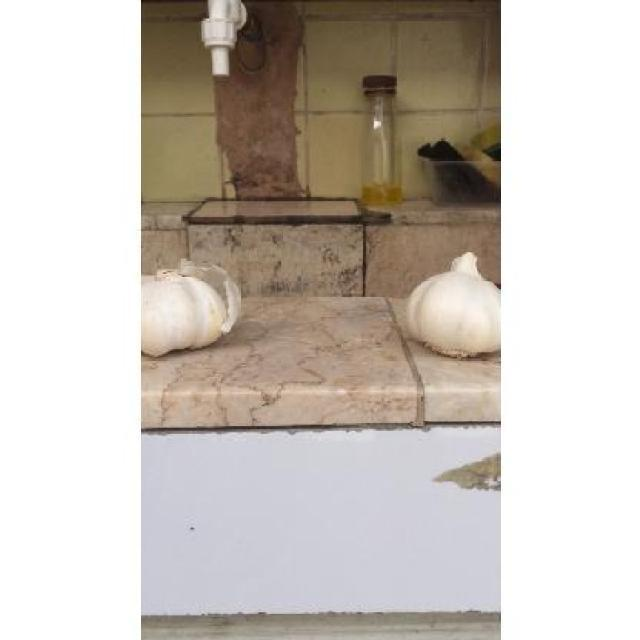garlic: (406, 252, 500, 357), (142, 260, 241, 356)
